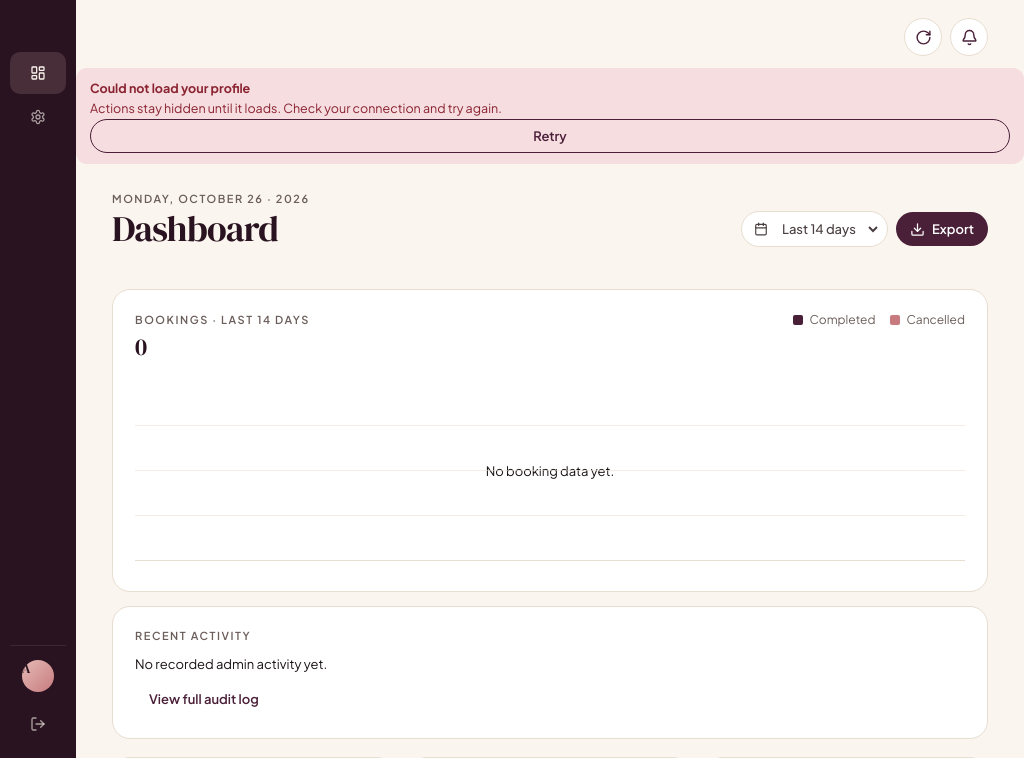
<App> — CR-22 session start › keeps the tokens and offers a retry when /auth/me fails with a 500
The image size is (1024, 758).
Click the button "Retry".
click(550, 136)  # box [90,119,1010,153]
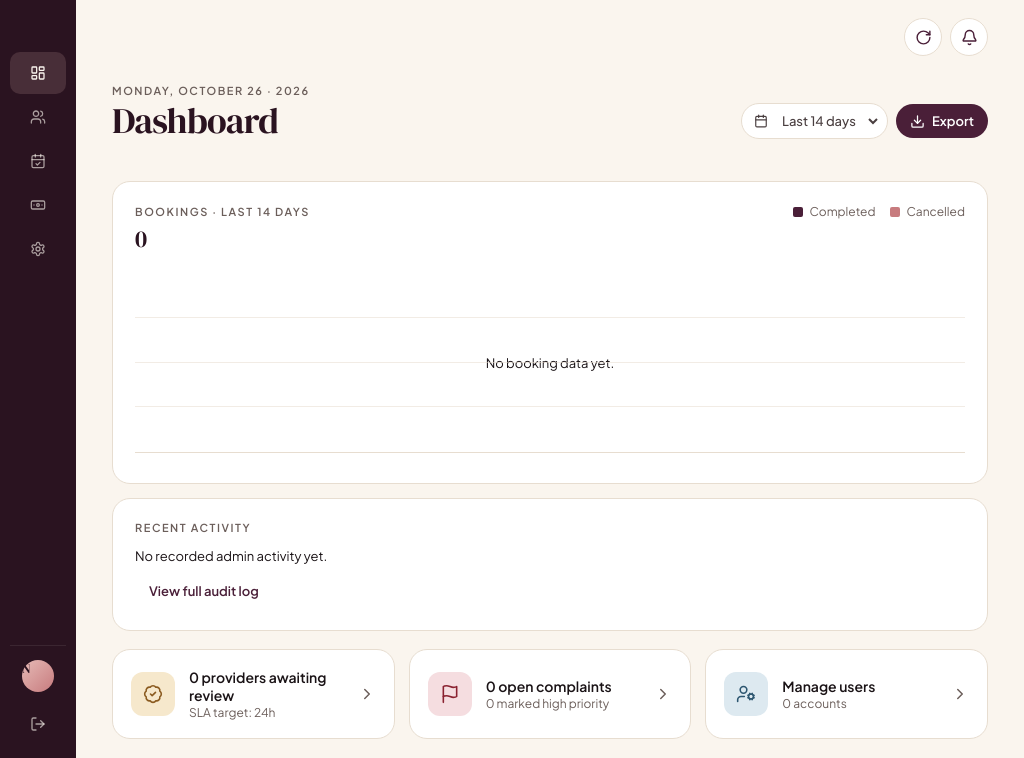
Now the button "Retry" is gone
